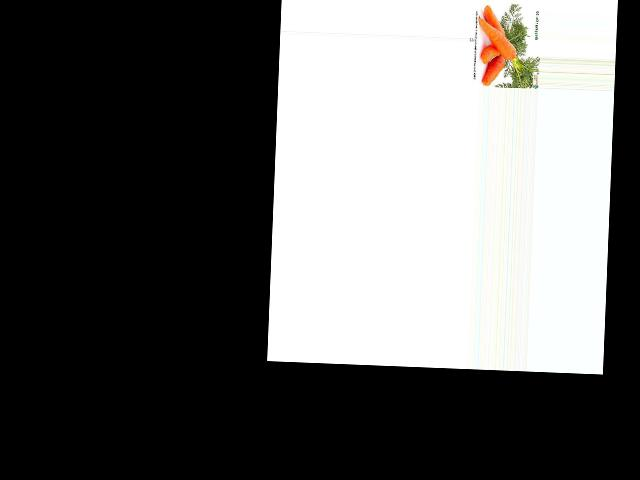carrot: (481, 54, 508, 86)
